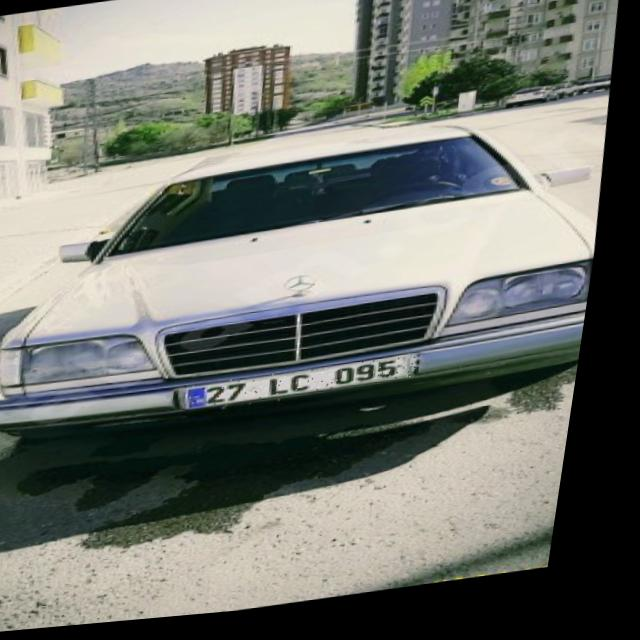license_plate: (197, 363, 430, 414)
